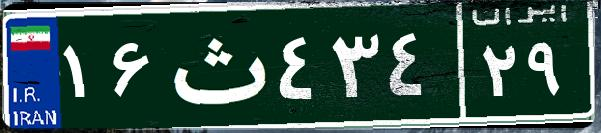1: (57, 26, 110, 107)
2: (475, 38, 525, 113)
3: (330, 28, 385, 110)
4: (385, 28, 445, 110), (273, 28, 330, 110)
6: (110, 28, 158, 105)
9: (525, 38, 570, 115)
ث: (158, 15, 273, 115)
